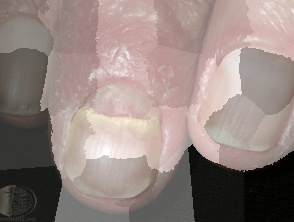Nail_psoriasis: (40, 65, 183, 210), (188, 46, 294, 157), (0, 89, 56, 125)
